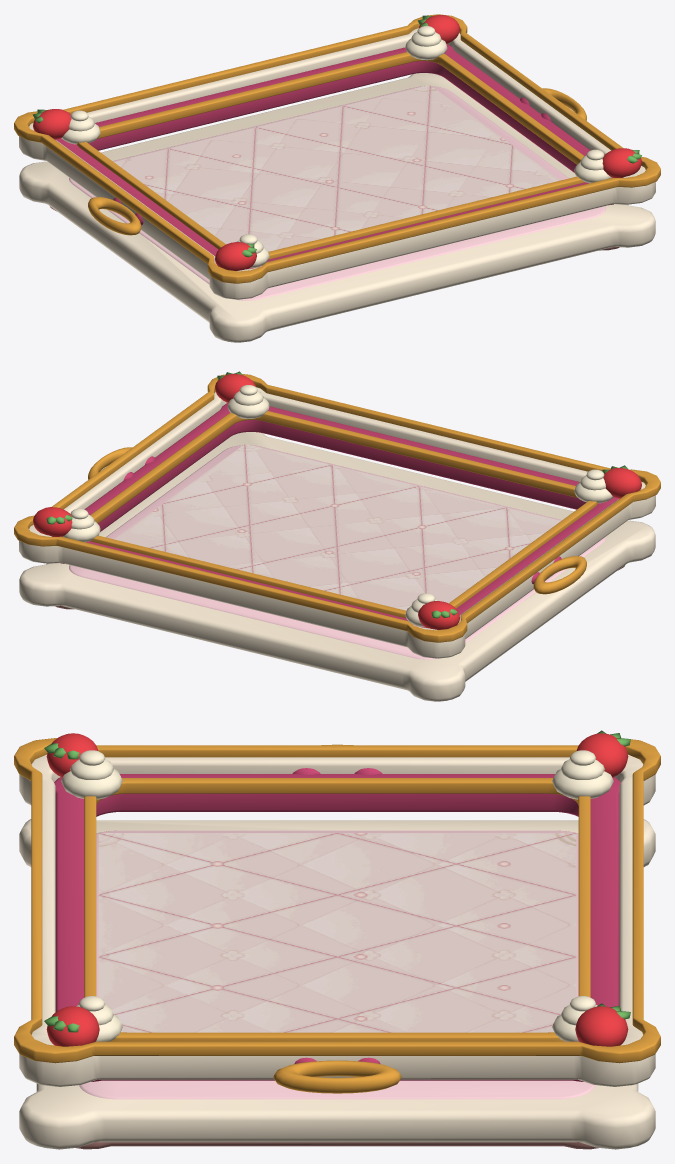
The model's file is tray_dessert.glb.
3 views of the same model, one above another, from view 1: azimuth 30°, elevation 25°; view 2: azimuth 150°, elevation 25°; view 3: azimuth 270°, elevation 25° (orthographic). The views are drawn at different scales.
Parts seen in each view (by area): view 1: tray_dessert; view 2: tray_dessert; view 3: tray_dessert.
Part boxes in pixels (left/top/right/bottom): tray_dessert: left=14, top=14, right=660, bottom=342; tray_dessert: left=14, top=371, right=660, bottom=701; tray_dessert: left=14, top=730, right=660, bottom=1149.
Size of the model in its own units: 7.23 by 1.35 by 5.85.
9 materials, 1 textured.
